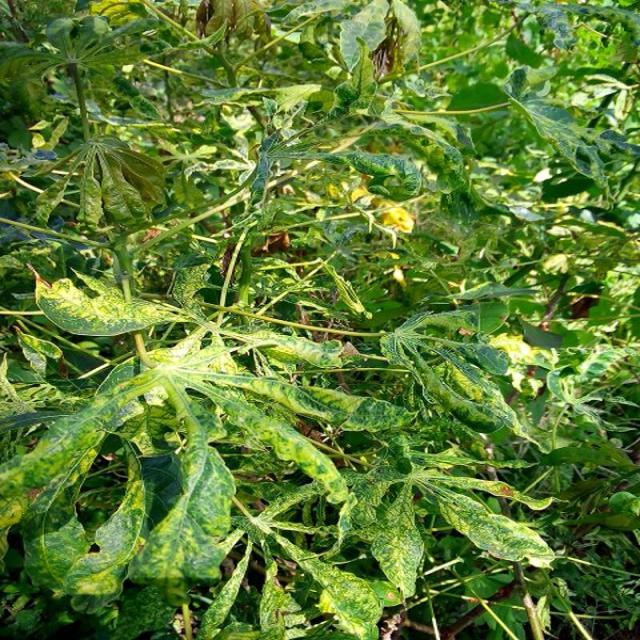cassava leaf: (34, 270, 192, 337)
